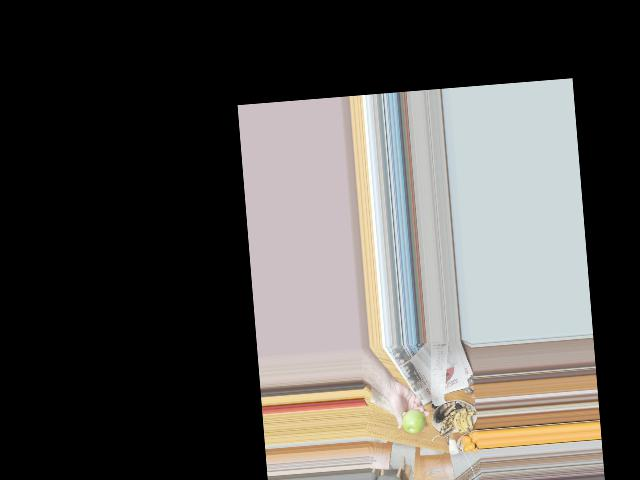apple: (401, 408, 426, 435)
